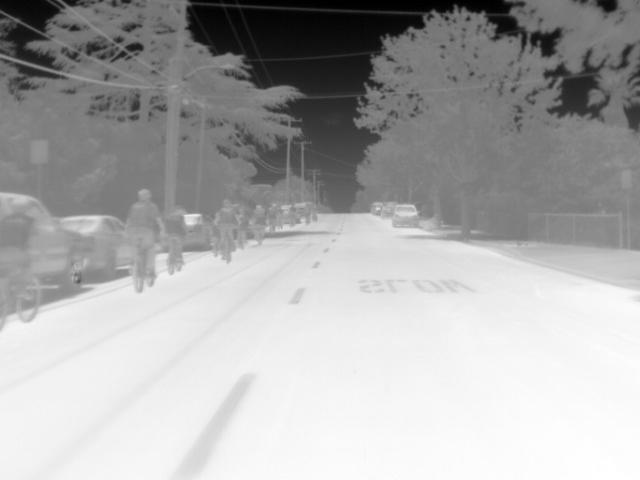car: (2, 192, 85, 296), (56, 211, 131, 278), (186, 212, 216, 248), (391, 203, 423, 228), (369, 198, 387, 216)
person: (1, 195, 45, 307), (123, 188, 165, 276), (210, 198, 241, 257), (162, 204, 190, 266), (249, 203, 269, 239), (267, 202, 279, 228), (287, 204, 300, 223)
